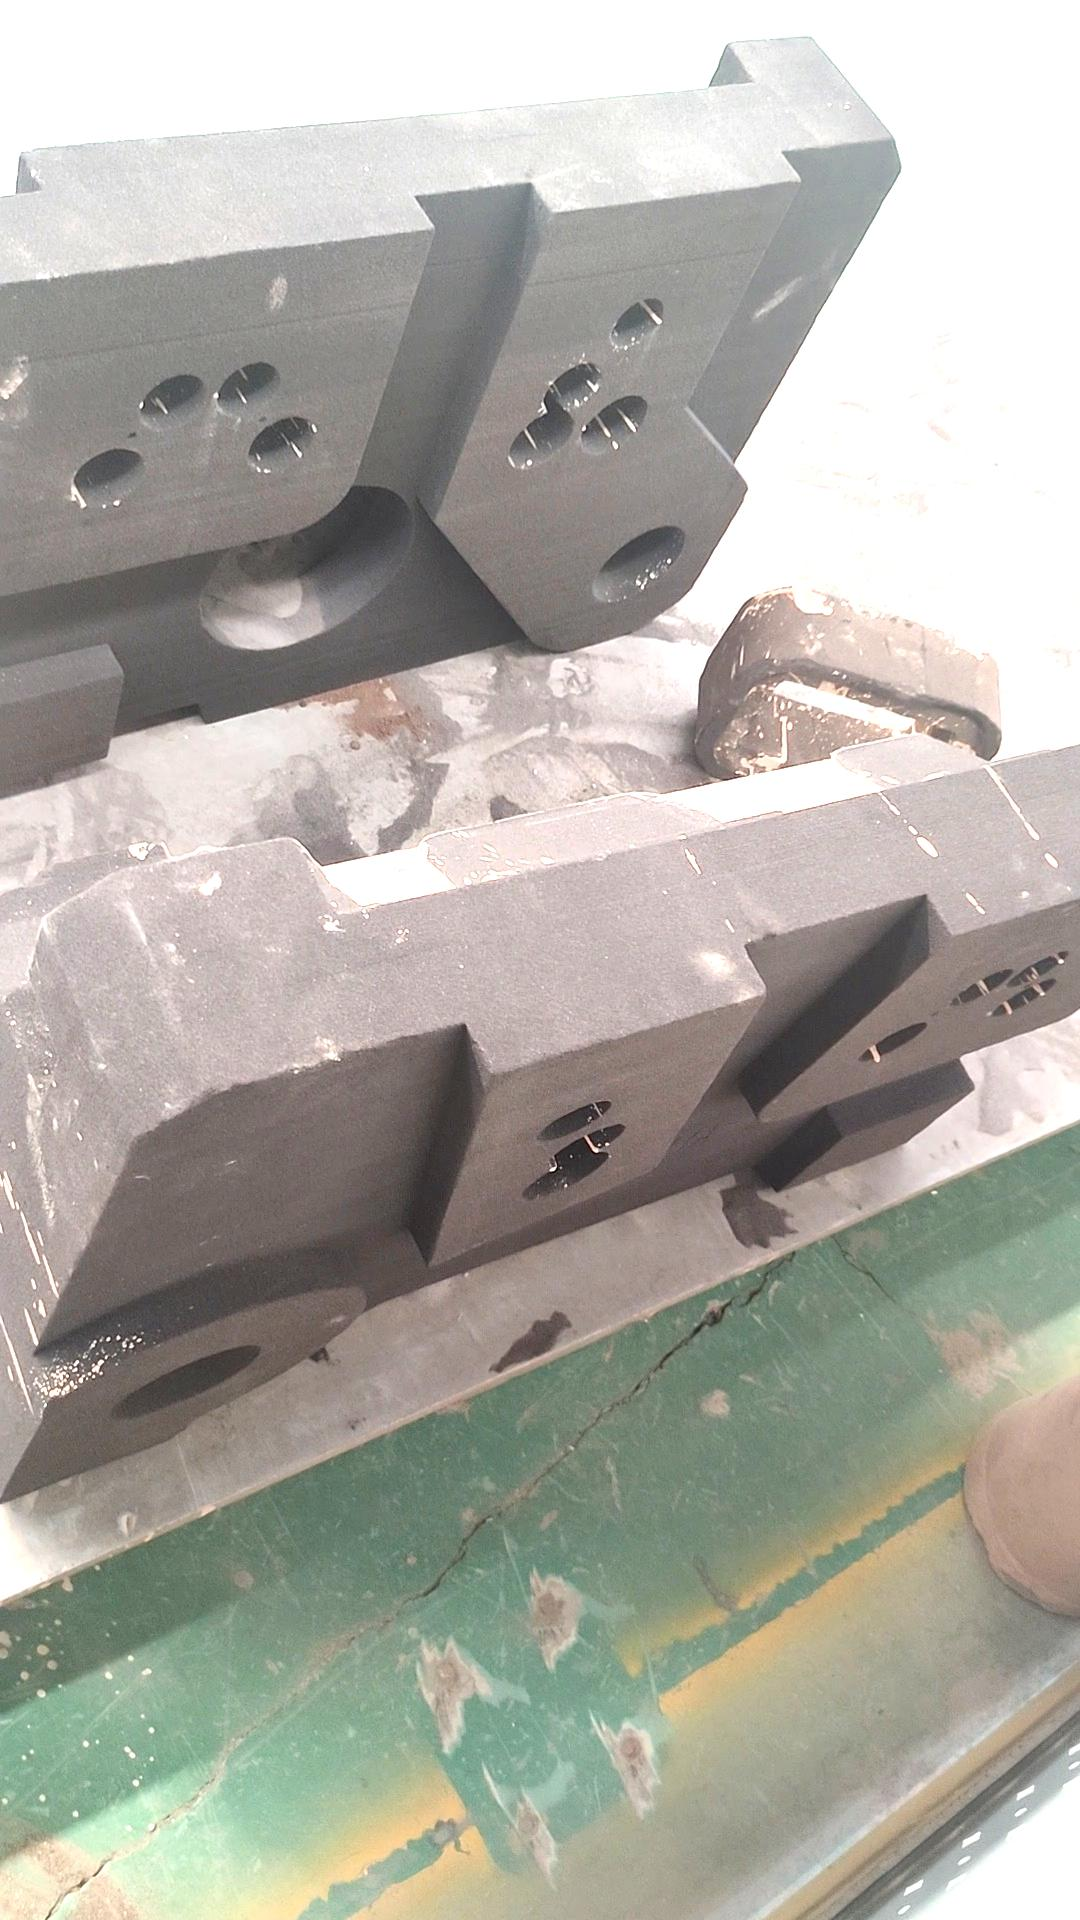pouring hole: (109, 1345, 261, 1419), (591, 526, 687, 603)
